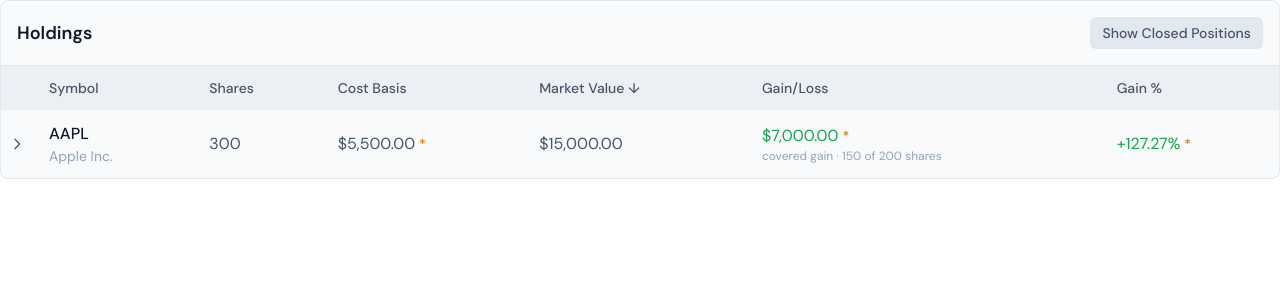
Scenario: HoldingsTable — cost-basis coverage › caveats the consolidated row and each account under it
expect the number of buttons named "Cost basis covers only part of this position" is 3: met, box [419,135,426,153]; [842,127,849,145]; [1184,135,1191,153]
Click the text "AAPL" at (69, 134), box [49,123,89,144]
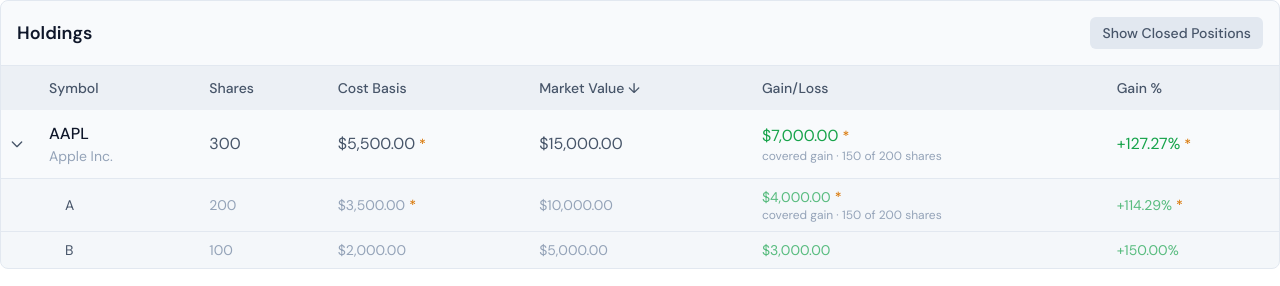
expect the number of buttons named "Cost basis covers only part of this position" is 6: met, box [419,135,426,153]; [842,127,849,145]; [1184,135,1191,153]; [409,196,416,214]; [835,188,842,206]; [1176,196,1183,214]
